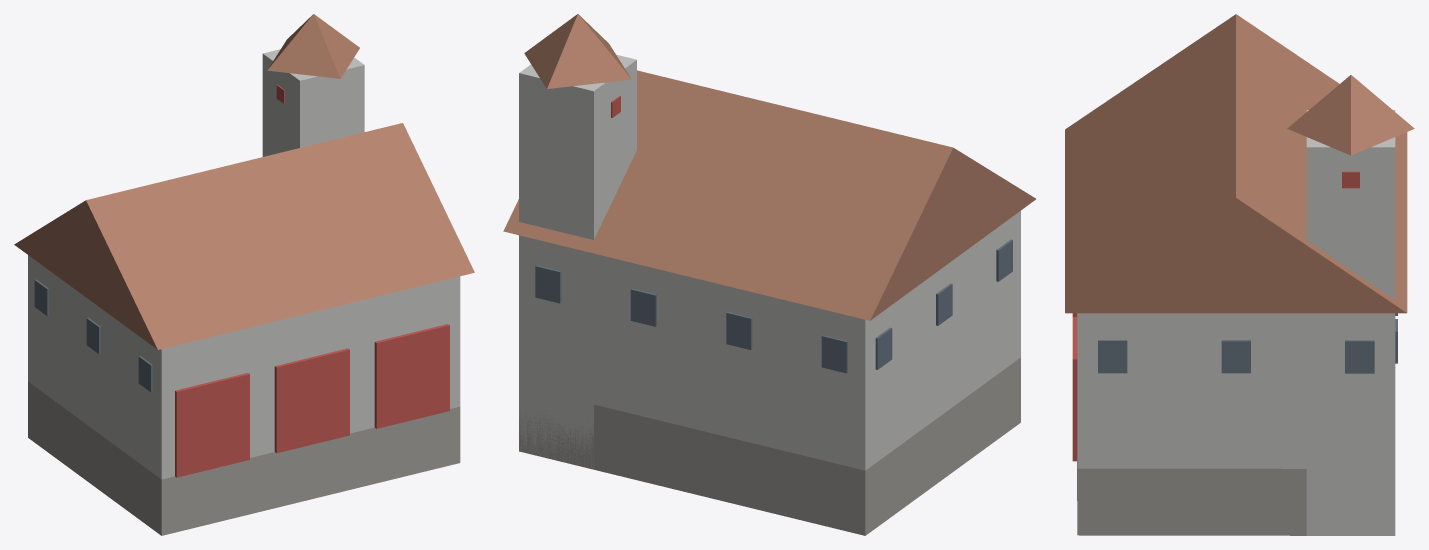
File: landmark-fire_station-freiwillige-feuerwehr-sitzenkirch.glb
The picture shows the model from 3 angles, left to right: view 1: azimuth 30°, elevation 25°; view 2: azimuth 150°, elevation 25°; view 3: azimuth 270°, elevation 25°; orthographic projection. The views are drawn at different scales.
Visible parts, largest first — view 1: building; view 2: building; view 3: building.
Part boxes in pixels (x1,y1,x2,y2): building: [14, 14, 474, 535]; building: [503, 14, 1035, 535]; building: [1065, 14, 1414, 535].
Size of the model in its own units: 14.97 by 16.5 by 11.83.
